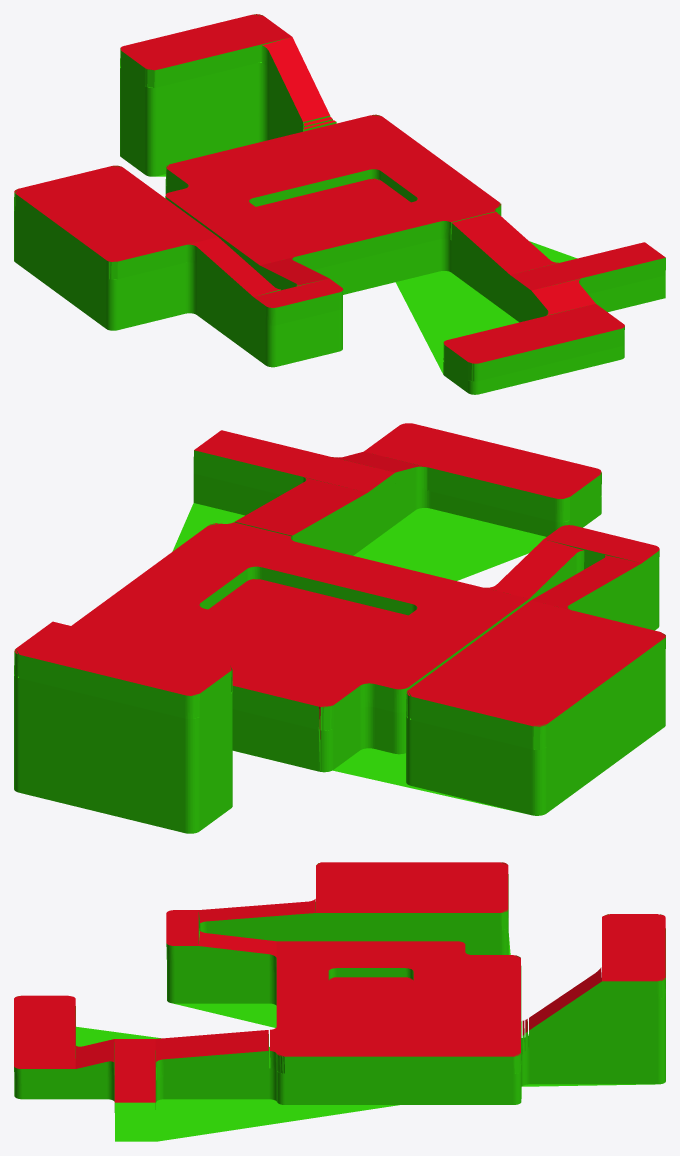
File: CuevaB34.fbx
3 renders of one model, top to bottom at view 1: azimuth 30°, elevation 25°; view 2: azimuth 150°, elevation 25°; view 3: azimuth 270°, elevation 25°, orthographic. The views are drawn at different scales.
Parts seen in each view (by area): view 1: Cube.004; view 2: Cube.004; view 3: Cube.004.
Boxes of the visible parts, x1,y1,x2,y2 form: Cube.004: [14, 14, 665, 394]; Cube.004: [14, 423, 665, 833]; Cube.004: [14, 862, 665, 1141].
Size of the model in its own units: 21.25 by 27.49 by 4.8.
